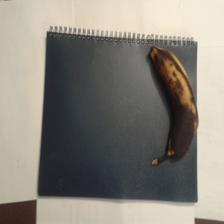Banana Rotten: (136, 39, 203, 173)
